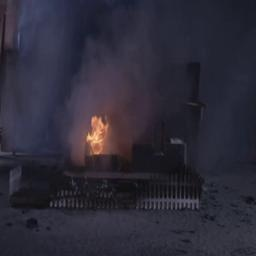fire: (71, 109, 119, 162)
smoke: (32, 3, 223, 106)
